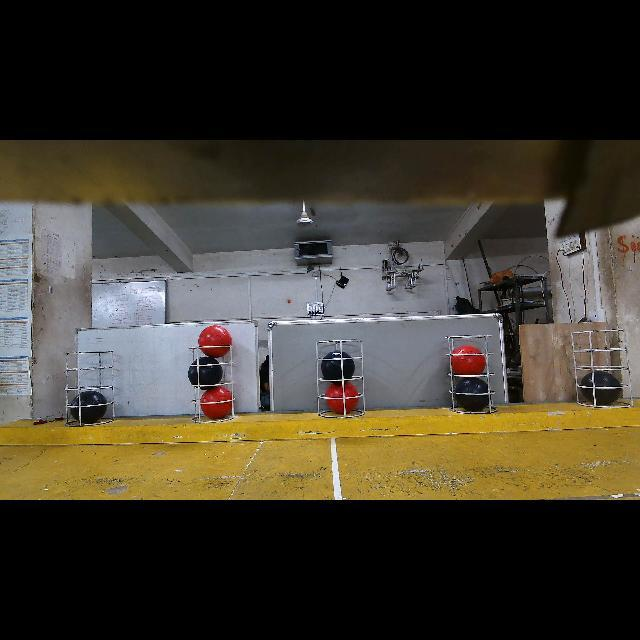P: (579, 371, 620, 406), (70, 391, 109, 425), (187, 359, 225, 390), (456, 376, 489, 411), (321, 350, 355, 383)
R: (198, 324, 233, 357), (326, 382, 359, 414), (201, 386, 233, 419), (452, 345, 485, 377)
S: (570, 324, 632, 410), (315, 331, 365, 424), (63, 350, 117, 430), (186, 342, 237, 422), (449, 334, 498, 416)
